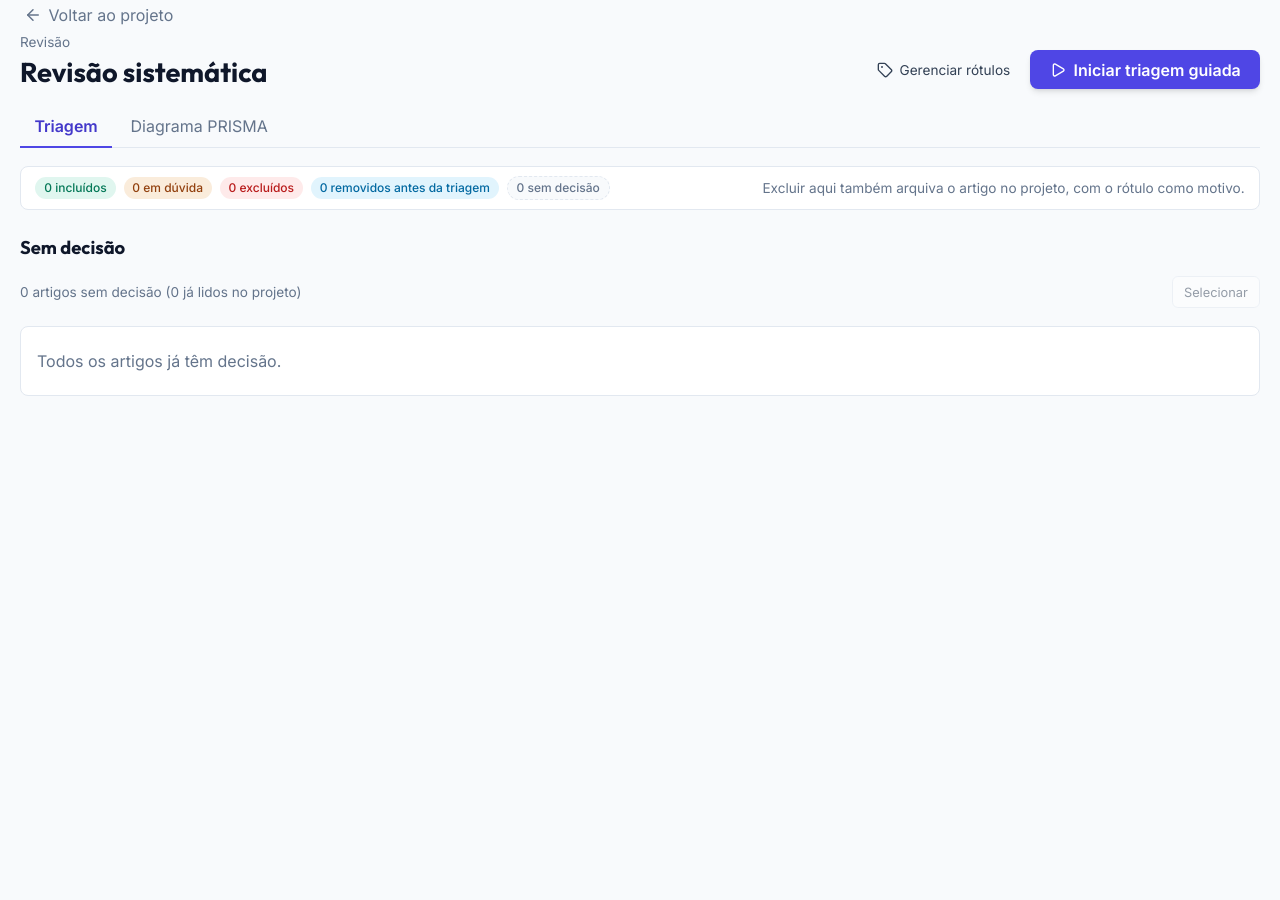
ManageLabelsModal (#49) › adds a label of the chosen kind
Click the button "Gerenciar rótulos". click: coordinates (944, 70)
box: [865,50,1022,89]
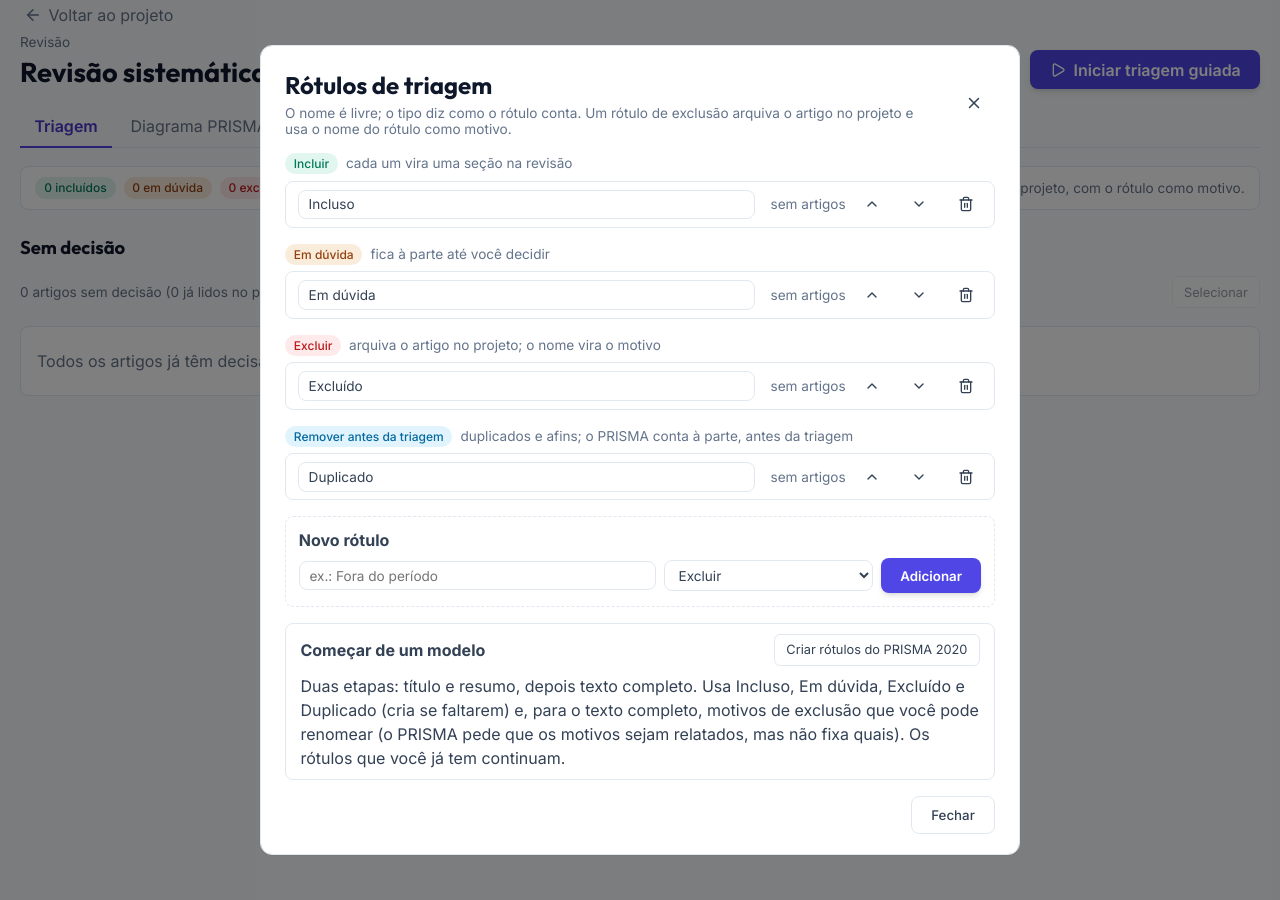
Type "Fora do período" into the field named "Nome do novo rótulo". click: coordinates (477, 576)
box: [299,561,656,590]
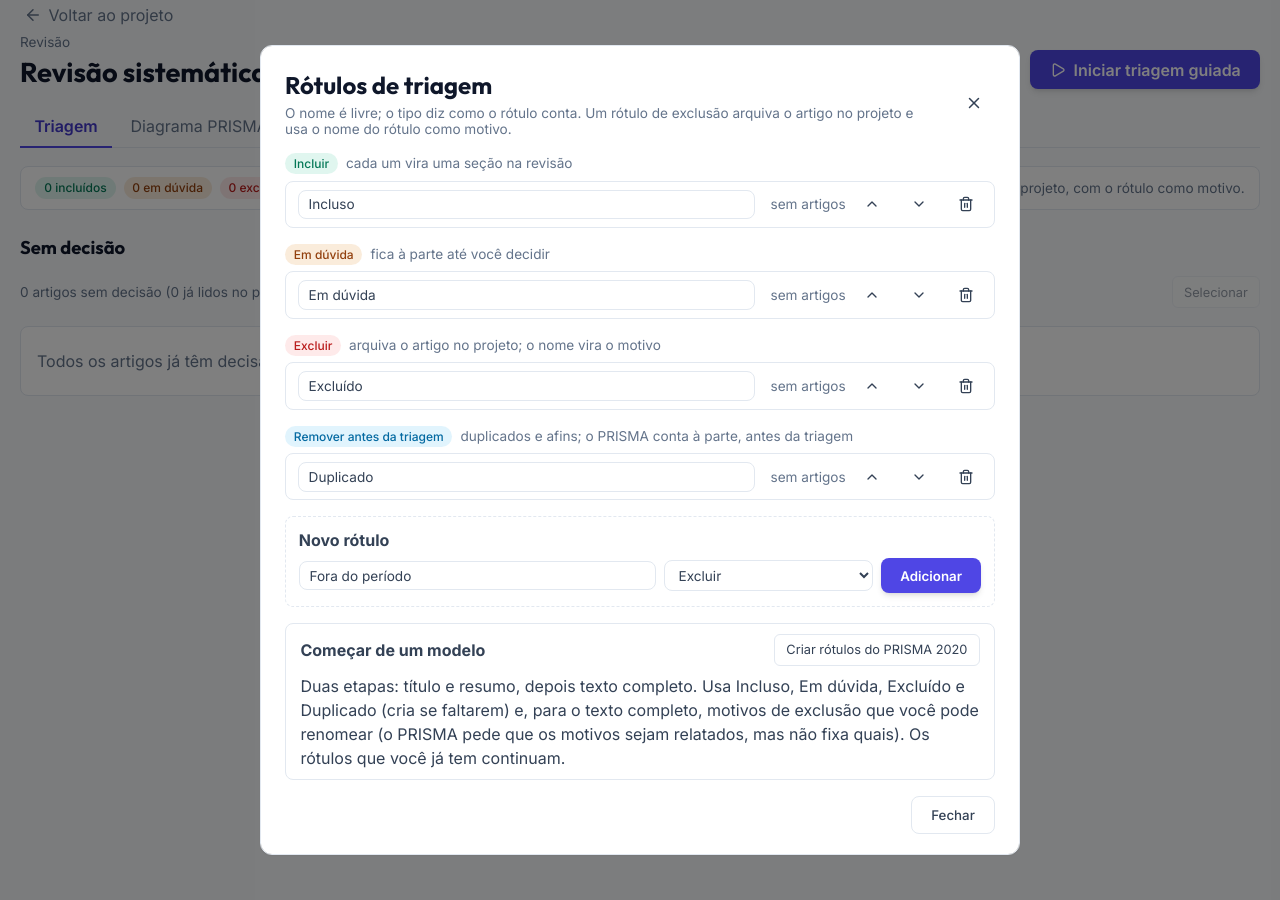
Select "Em dúvida" in the dropdown named "Tipo do rótulo". click: coordinates (768, 576)
box: [664,560,873,592]
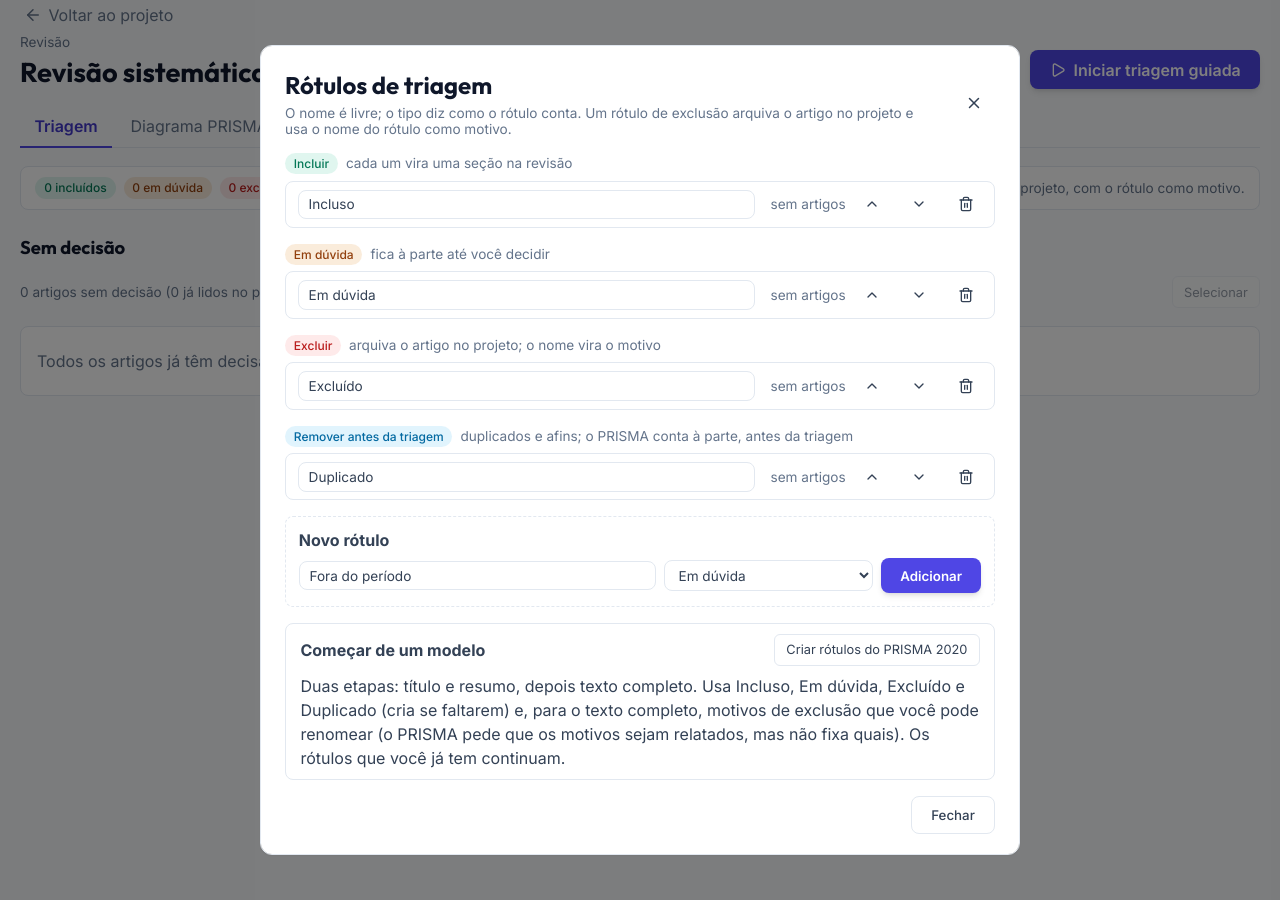
Click the button "Adicionar". click: coordinates (931, 576)
box: [881,558,981,594]
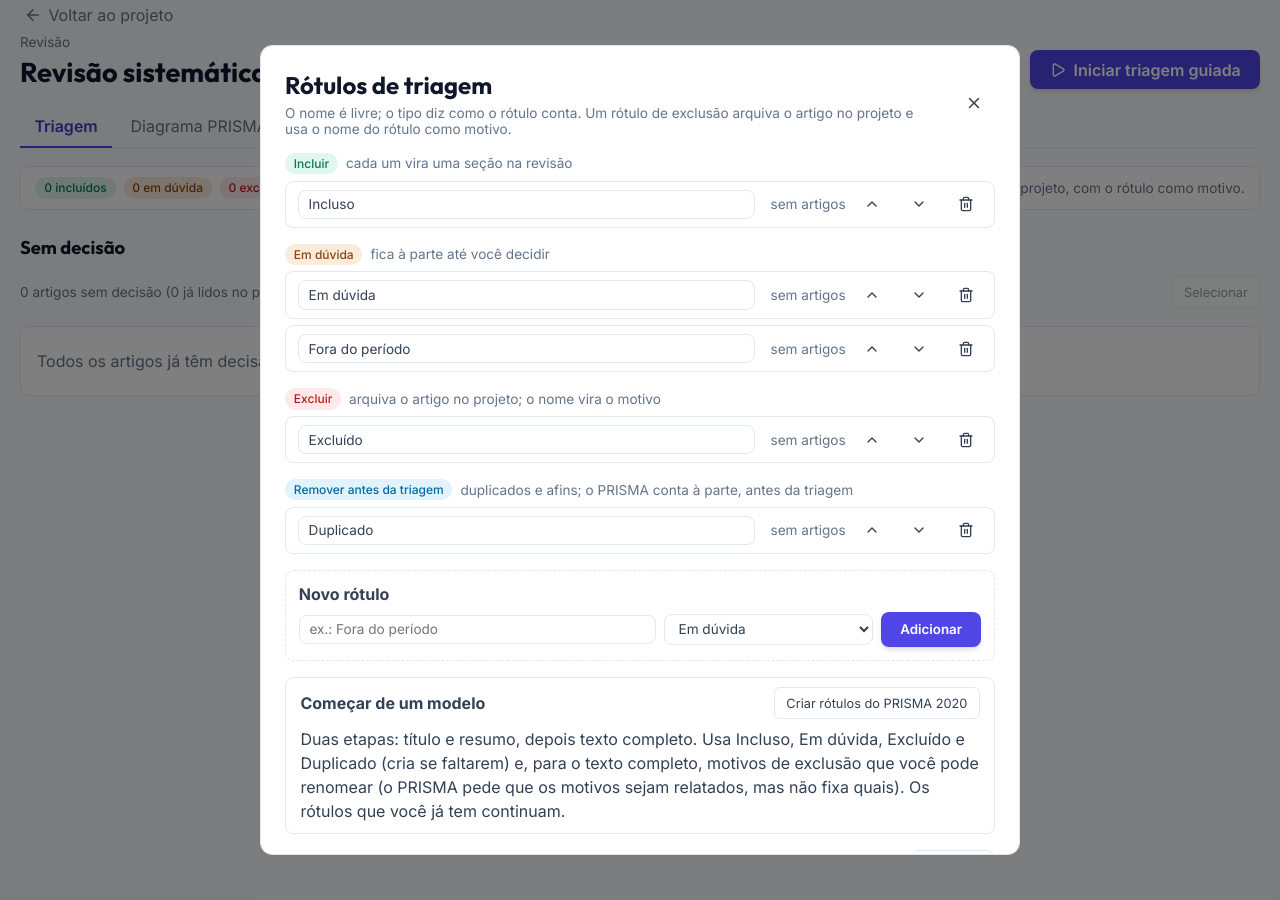
Now the field named "Nome do rótulo Fora do período" is shown, box [298,334,755,363]
